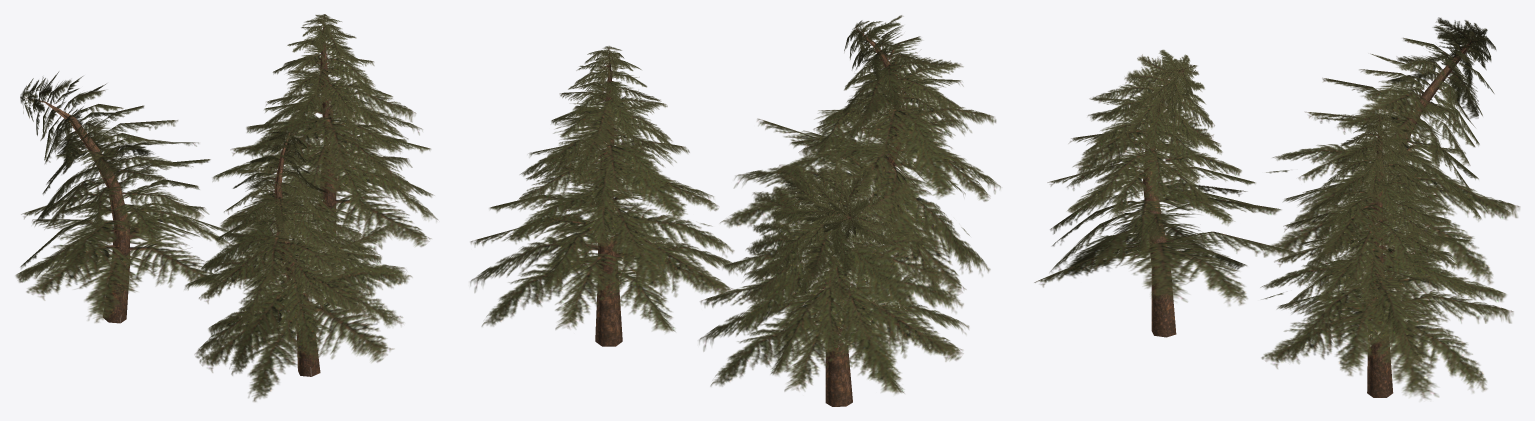
File: pine_giant.glb
The picture shows the model from 3 angles, left to right: view 1: azimuth 30°, elevation 25°; view 2: azimuth 150°, elevation 25°; view 3: azimuth 270°, elevation 25°; orthographic projection. The views are drawn at different scales.
Parts seen in each view (by area): view 1: pine_tree.002, pine_tree.001, pine_tree; view 2: pine_tree.001, pine_tree, pine_tree.002; view 3: pine_tree, pine_tree.002, pine_tree.001.
Boxes of the visible parts, left/top/right/bottom form: pine_tree.002: left=184, top=130, right=412, bottom=401; pine_tree.001: left=15, top=72, right=230, bottom=323; pine_tree: left=212, top=14, right=437, bottom=246; pine_tree.001: left=699, top=150, right=968, bottom=406; pine_tree: left=470, top=46, right=739, bottom=346; pine_tree.002: left=720, top=15, right=1000, bottom=295; pine_tree: left=1260, top=113, right=1513, bottom=399; pine_tree.002: left=1034, top=49, right=1295, bottom=337; pine_tree.001: left=1266, top=17, right=1519, bottom=291.
Bounding box in the file's own units: 1.57 × 0.9449 × 1.5.
1 material, 1 textured.
